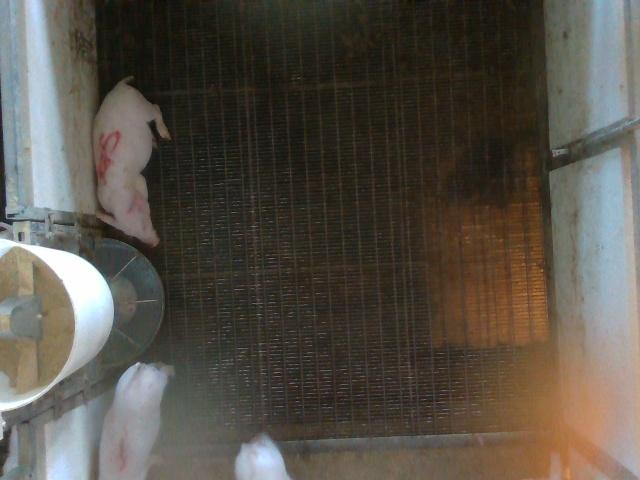pig-1: (99, 362, 174, 478)
pig-5: (94, 76, 170, 246)
